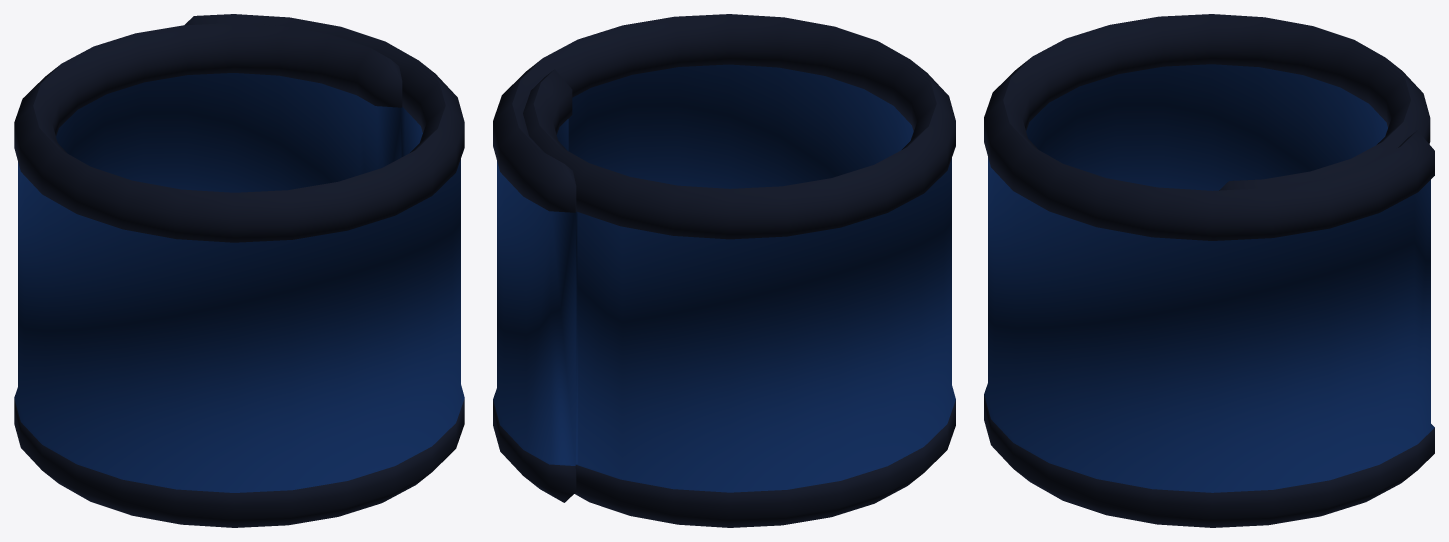
The model's file is esfigmomanometro.fbx.
3 renders of one model, left to right at view 1: azimuth 30°, elevation 25°; view 2: azimuth 150°, elevation 25°; view 3: azimuth 270°, elevation 25°, orthographic.
Visible parts, largest first — view 1: Spiral; view 2: Spiral; view 3: Spiral.
Part boxes in pixels (<box>): Spiral: <box>14,14,464,527</box>; Spiral: <box>493,14,955,527</box>; Spiral: <box>984,14,1434,527</box>.
Bounding box in the file's own units: 39.54 × 32.2 × 39.03.
